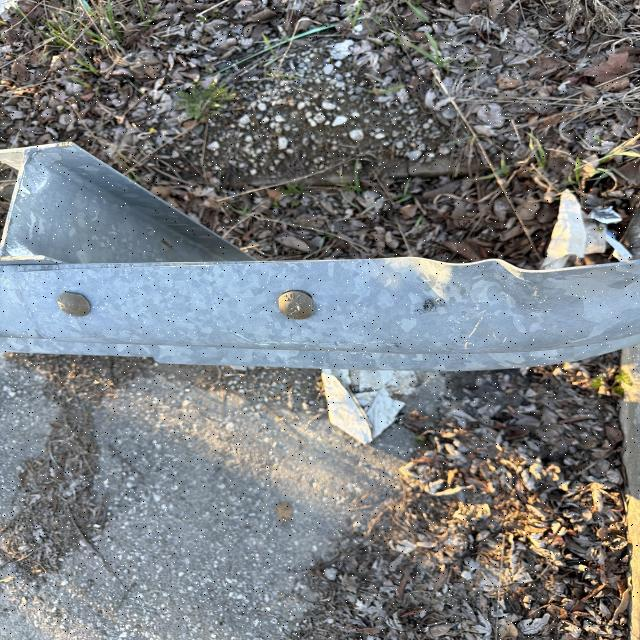Guard rail: (0, 170, 597, 359)
